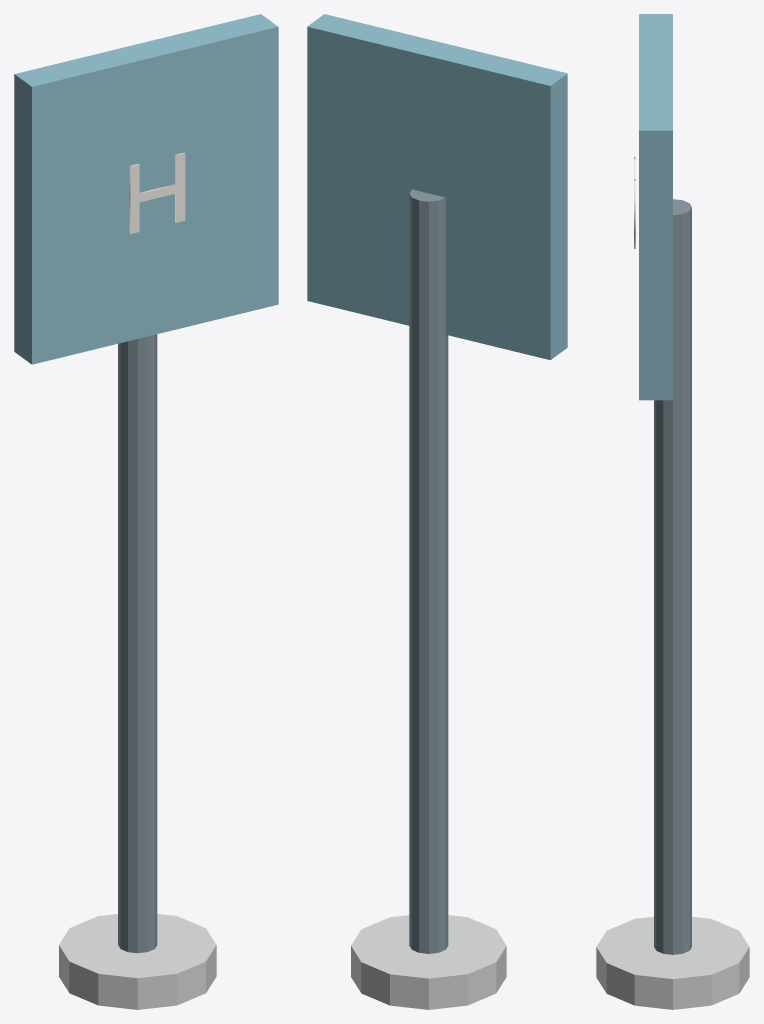
File: hospital.glb
3 views of the same model, side by side, from view 1: azimuth 30°, elevation 25°; view 2: azimuth 150°, elevation 25°; view 3: azimuth 270°, elevation 25° (orthographic). The views are drawn at different scales.
Parts seen in each view (by area): view 1: hospital_002, hospital_000, hospital_001, hospital_003; view 2: hospital_002, hospital_000, hospital_001; view 3: hospital_000, hospital_002, hospital_001.
Part boxes in pixels (box(x1,y1,x2,y2)): hospital_002: box(14, 14, 278, 364); hospital_000: box(118, 334, 157, 953); hospital_001: box(59, 914, 216, 1009); hospital_003: box(129, 152, 185, 233); hospital_002: box(307, 14, 567, 360); hospital_000: box(409, 189, 448, 953); hospital_001: box(351, 915, 506, 1009); hospital_000: box(654, 199, 691, 954); hospital_002: box(639, 14, 672, 400); hospital_001: box(596, 916, 749, 1009).
Size of the model in its own units: 0.65 by 2.35 by 0.36.
